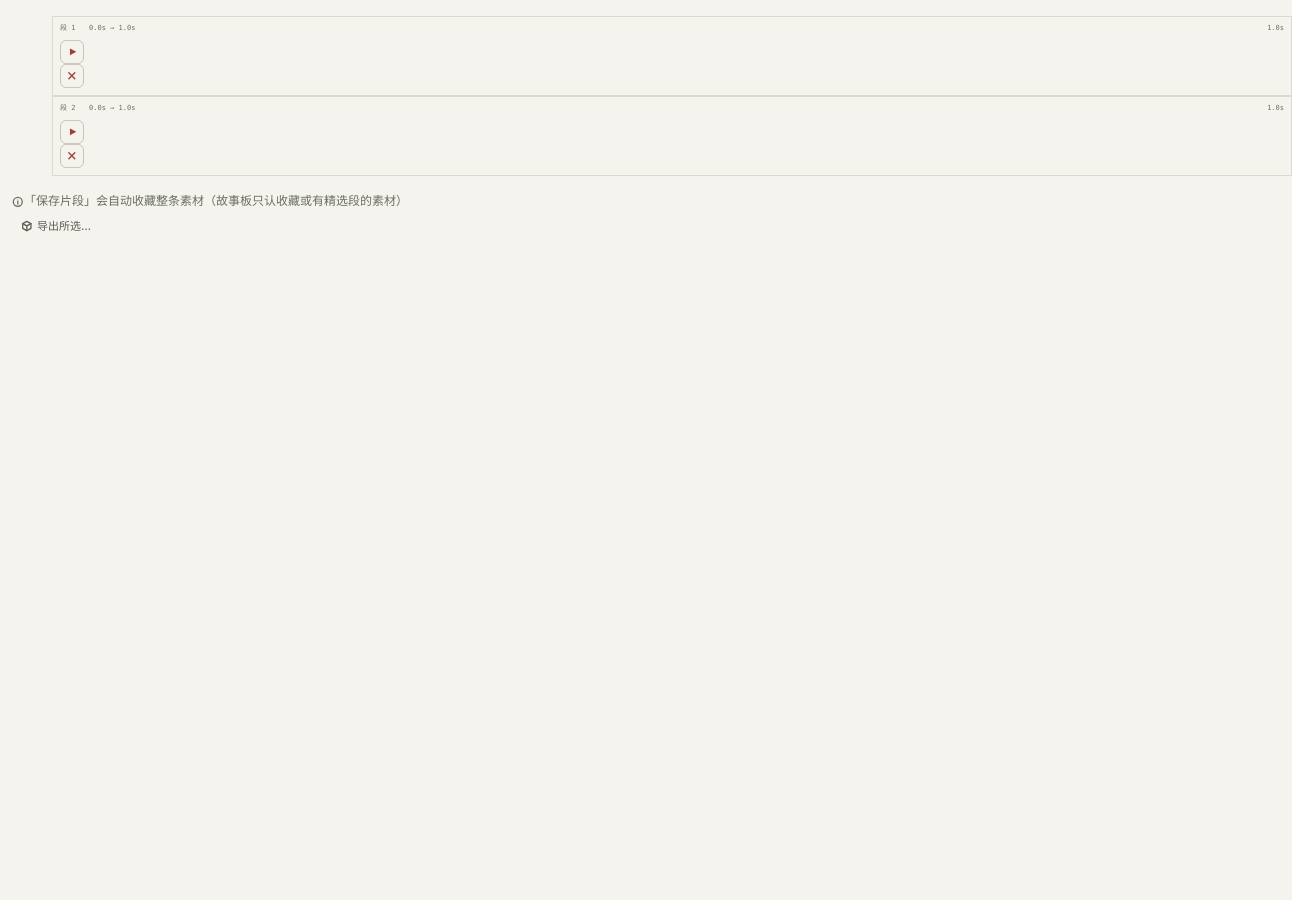
Test case: R16 P1-2:删精选段可撤销 › 删掉后 toast「已删除精选段 · 撤销」;点撤销调 restore_select_segment 并重取;⌘Z 栈里那条随之消失
This screenshot has width=1292, height=900.
Check: the list named "精选段列表" is shown, box [12, 16, 1291, 176]
Step 1. Click the button named "删除精选段 1" → (72, 76), box [60, 64, 84, 88]
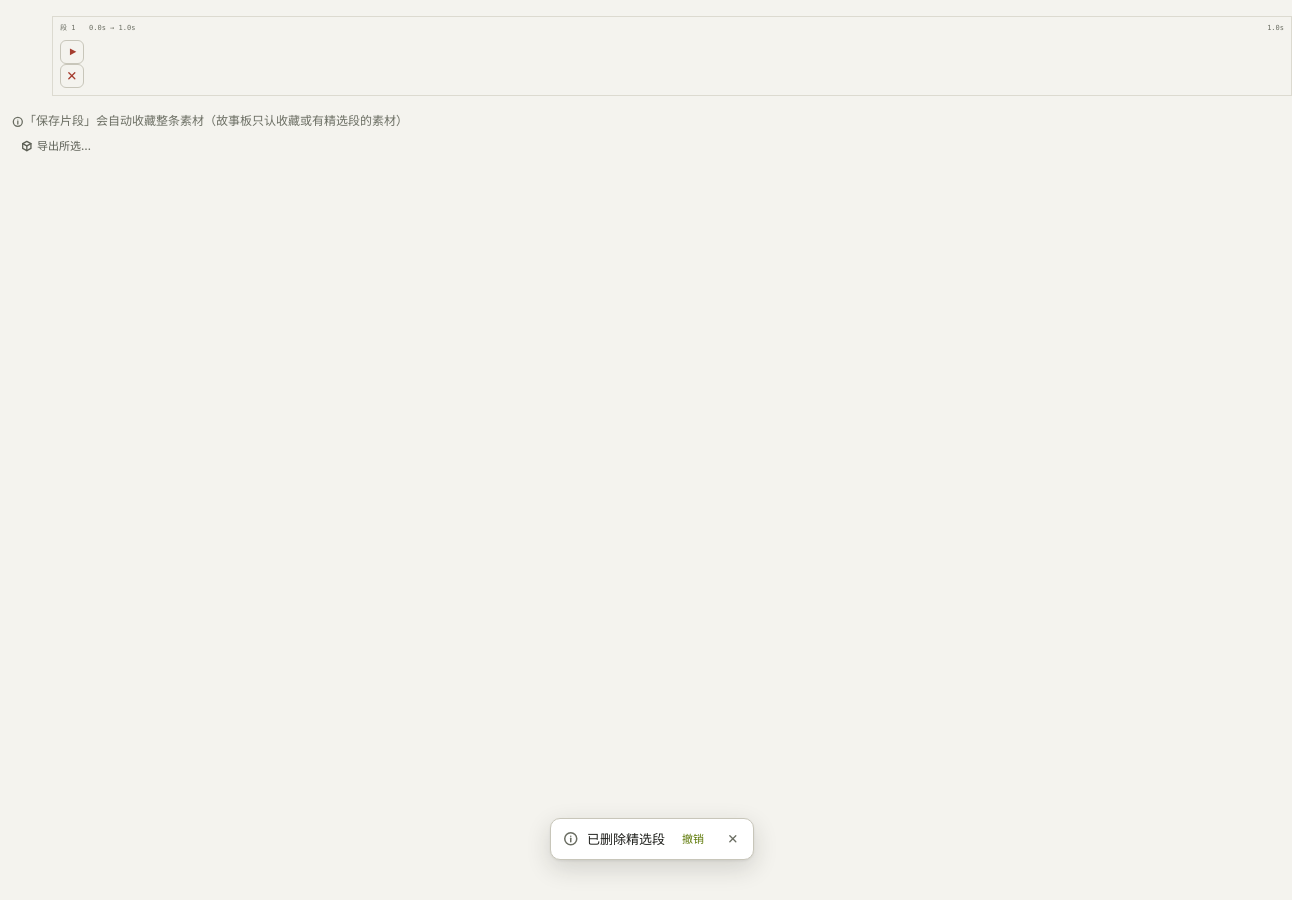
Check: the text "已删除精选段" is shown, box [587, 830, 665, 848]
Step 2. Click the button "撤销" → (693, 839), box [673, 827, 713, 851]
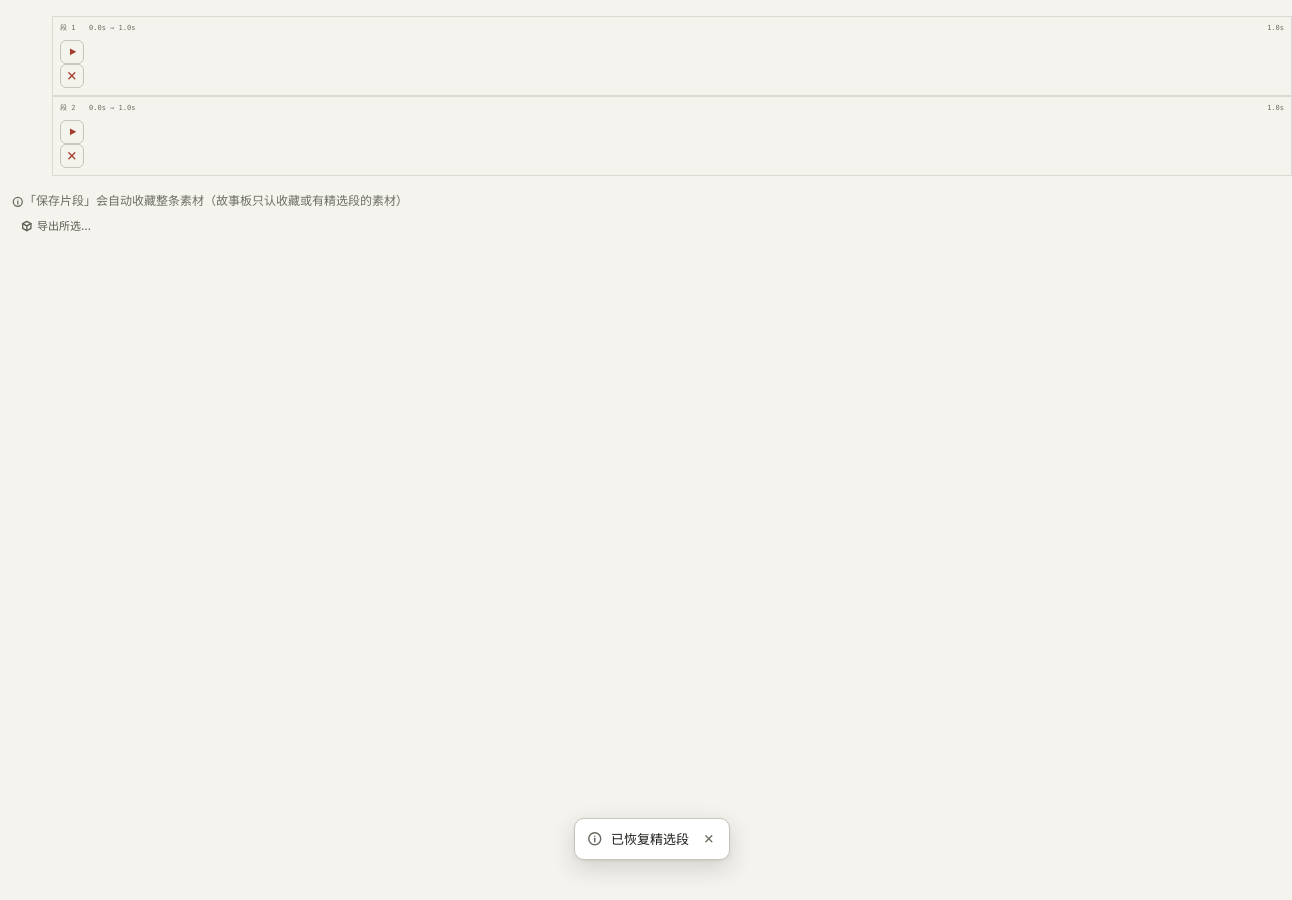
Check: the number of list items is 2, box [52, 16, 1291, 96]; [52, 96, 1291, 176]
